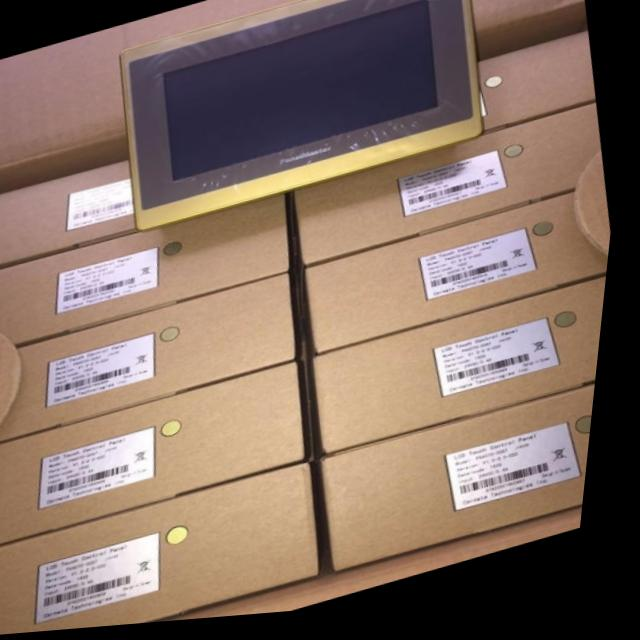box: (0, 367, 312, 546), (0, 468, 332, 636), (324, 285, 613, 463), (331, 393, 605, 577), (0, 277, 301, 444), (306, 200, 615, 361), (297, 113, 604, 274), (0, 199, 297, 344), (0, 161, 139, 268), (479, 40, 597, 140)
